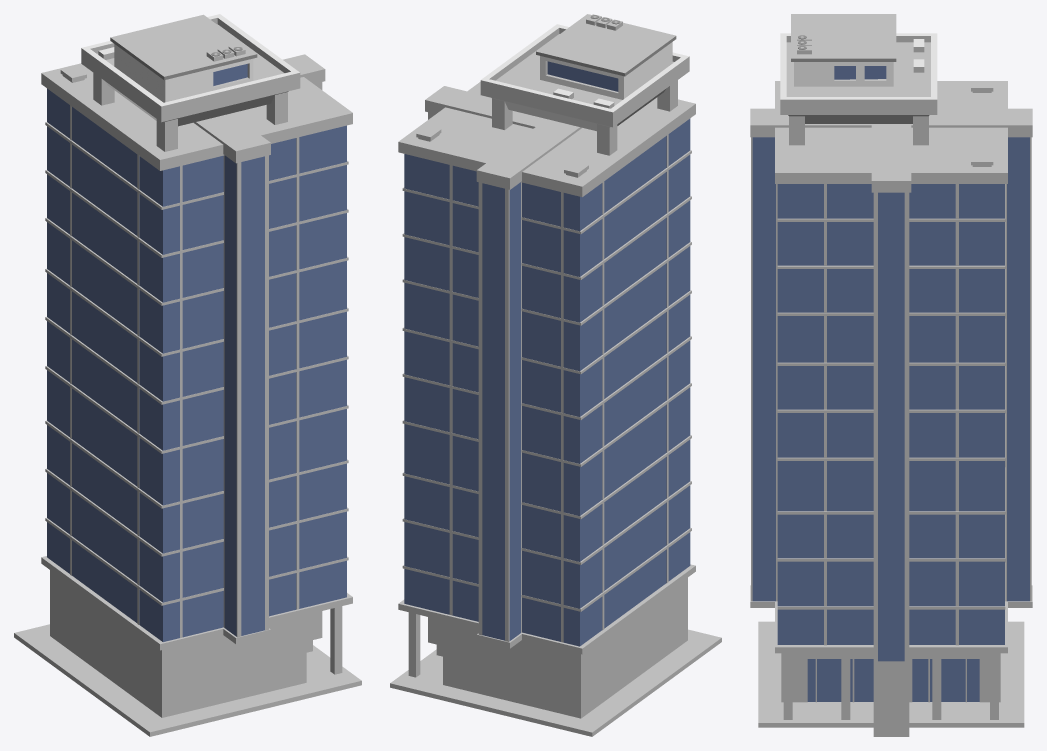
File: city7.obj
The picture shows the model from 3 angles, left to right: view 1: azimuth 30°, elevation 25°; view 2: azimuth 150°, elevation 25°; view 3: azimuth 270°, elevation 25°; orthographic projection. The views are drawn at different scales.
Parts seen in each view (by area): view 1: Plane.001_Plane.020; view 2: Plane.001_Plane.020; view 3: Plane.001_Plane.020.
Part boxes in pixels (box(x1,y1,x2,y2)): Plane.001_Plane.020: box(14, 14, 361, 736); Plane.001_Plane.020: box(390, 14, 721, 736); Plane.001_Plane.020: box(750, 14, 1032, 736).
Bounding box in the file's own units: 0.0715 × 0.1892 × 0.0766.
1 material, 1 textured.
